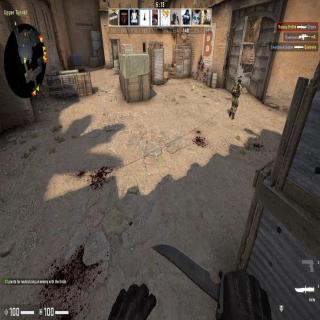CT-Body: (230, 76, 243, 114)
CT-Head: (238, 78, 242, 84)
